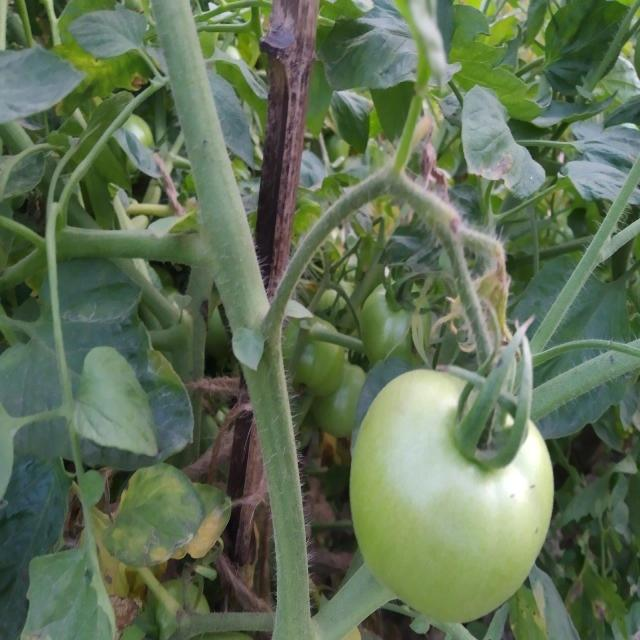Unripe: (350, 366, 553, 624)
